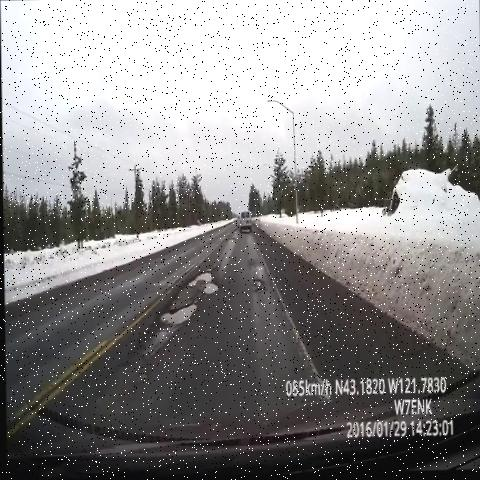pothole: (152, 291, 208, 343), (181, 259, 230, 303), (223, 237, 241, 251), (227, 228, 241, 241)
